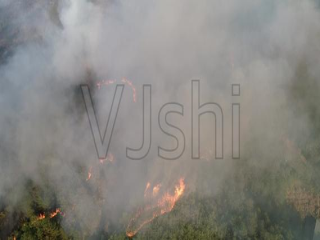fire: (124, 182, 195, 232)
smoke: (47, 10, 292, 168)
